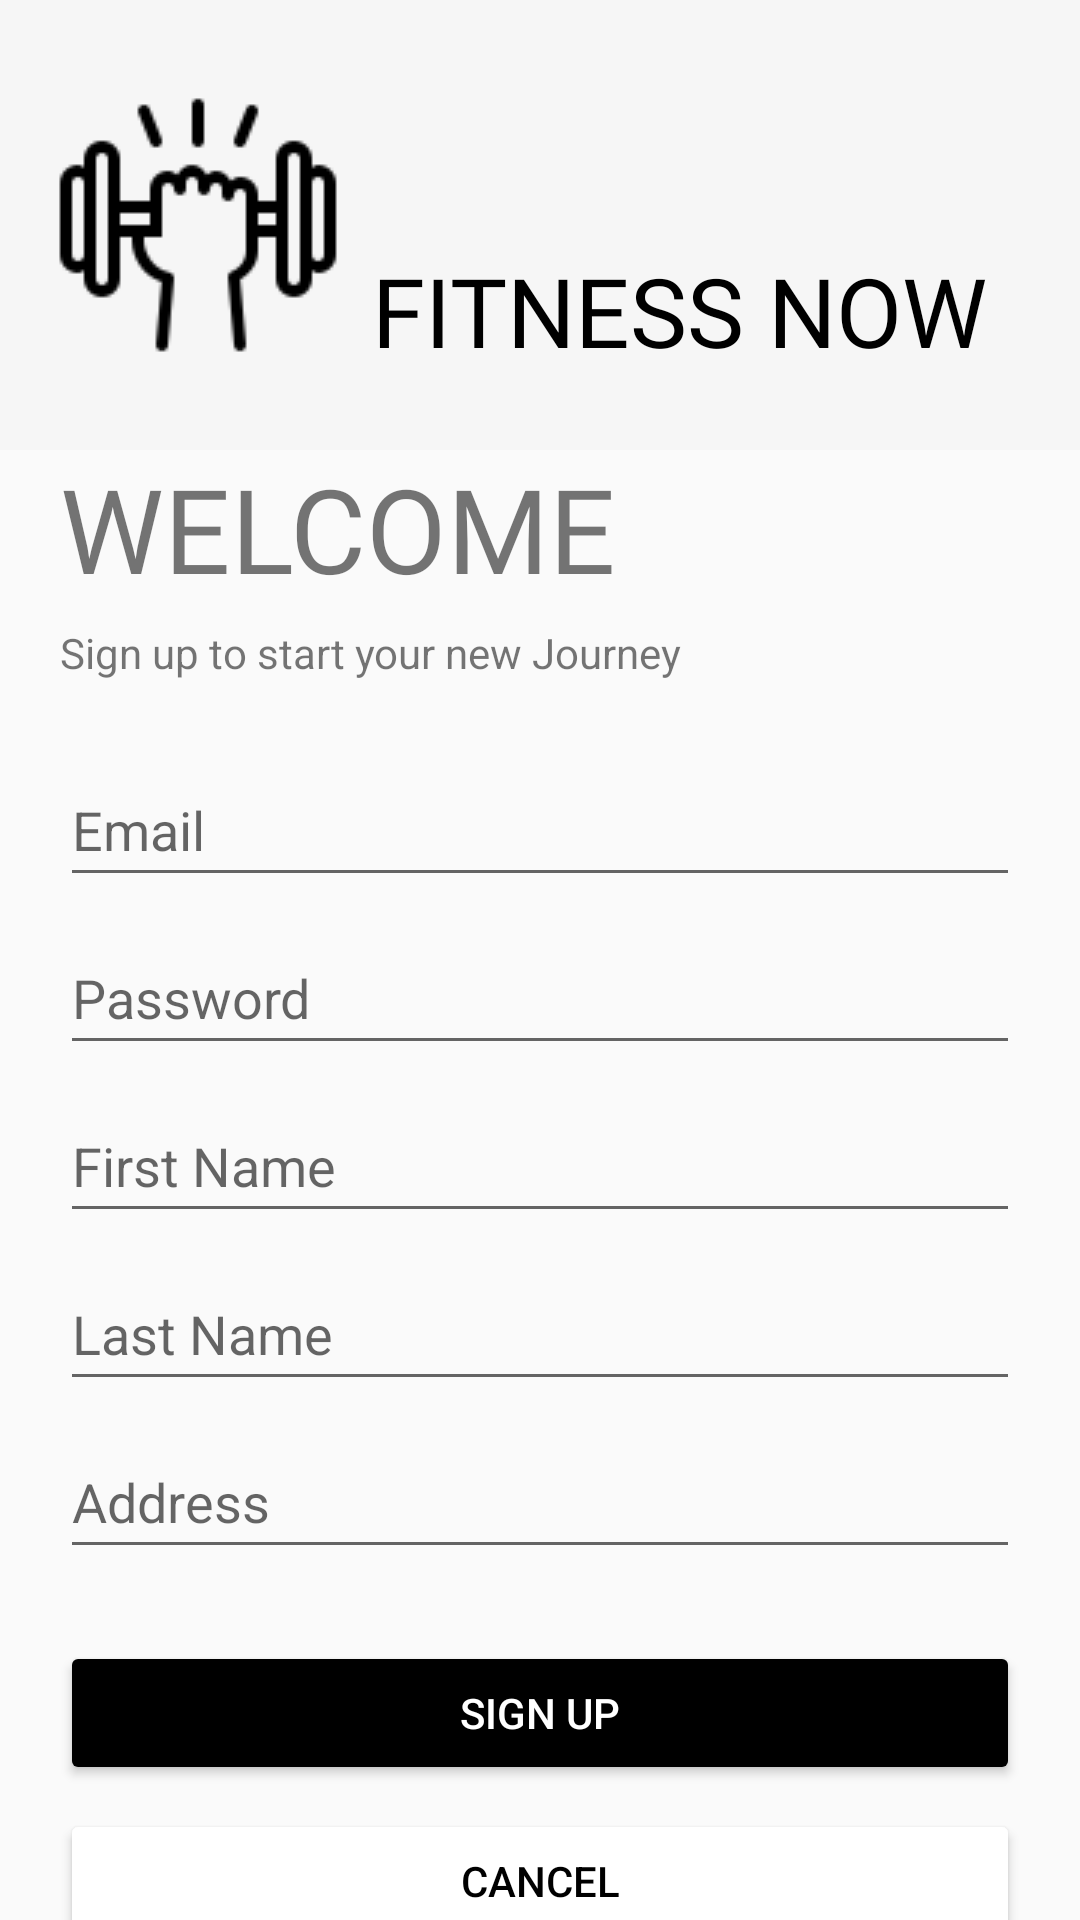

Icons on this 1080×1920 Android screen, each with the point to tap as (x,y):
strength: (198,225)
